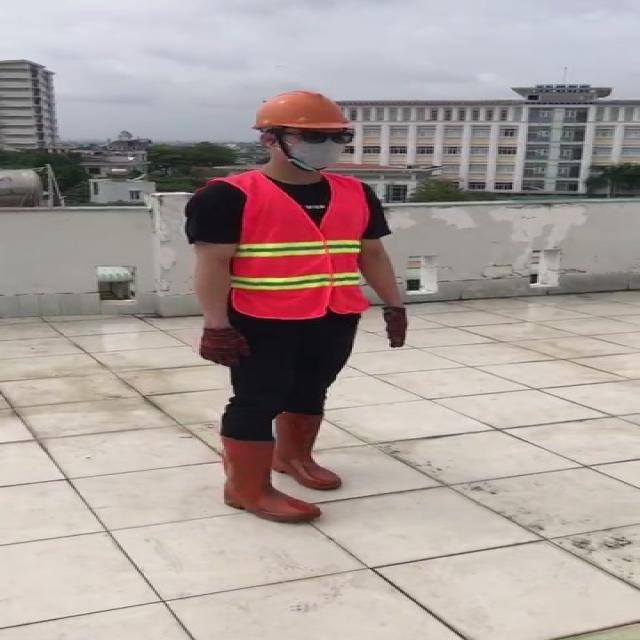boots: (218, 432, 318, 523), (274, 412, 344, 488)
gloves: (198, 326, 252, 366), (380, 306, 408, 351)
helmet: (248, 89, 358, 133)
vest: (228, 173, 368, 318)
